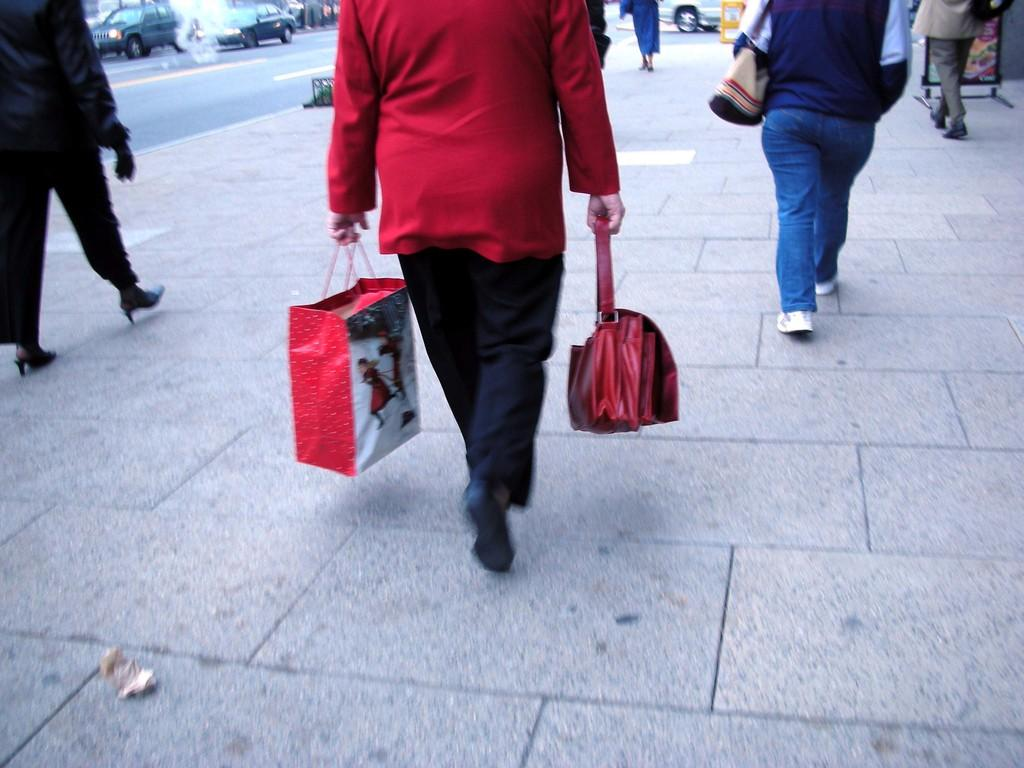Luggage-and-bags: (291, 220, 424, 479), (564, 223, 659, 443), (706, 0, 775, 127)
